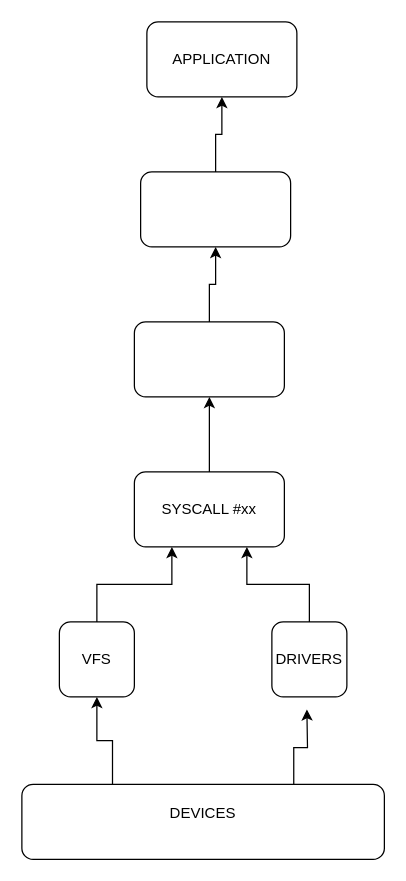
The diagram is 406 pixels wide and 881 high, and some of its shapes have lost their labels. Each missing label, with the centre of its shape:
"LIB. RIGEL" goes at point (215, 209).
"TRAP #0 trap0.c" goes at point (208, 359).
